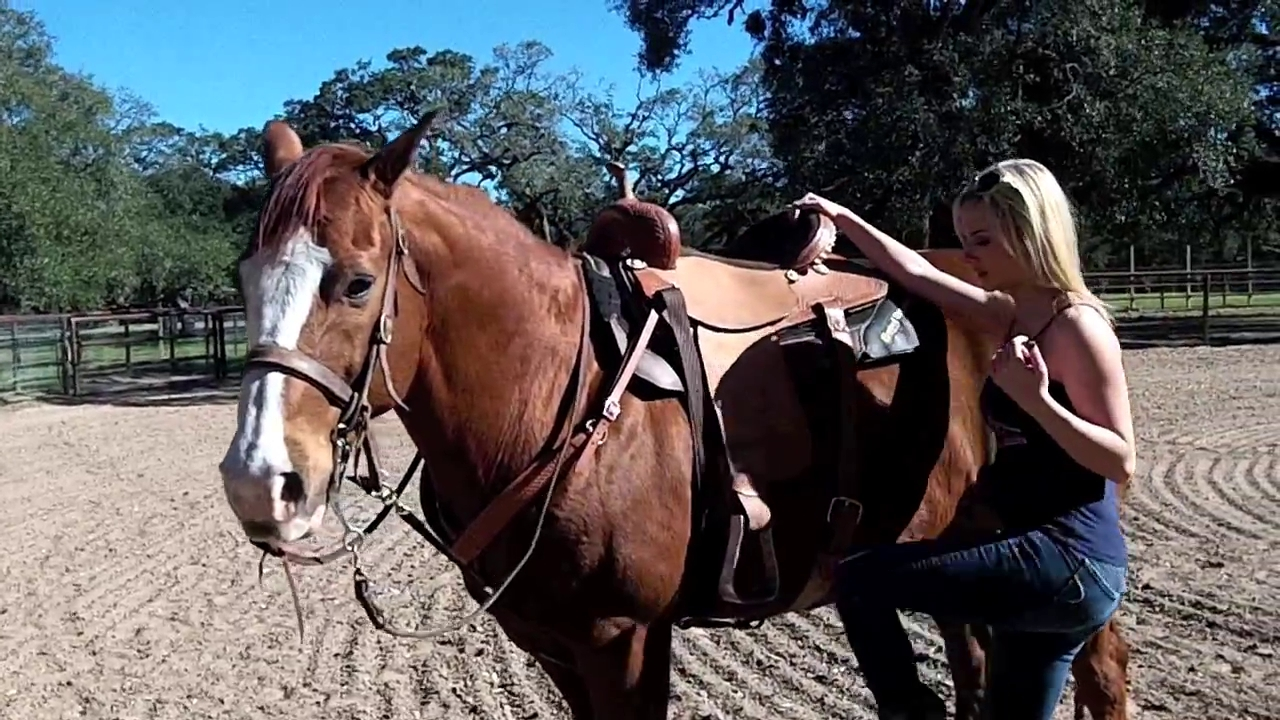person: (838, 159, 1137, 720)
